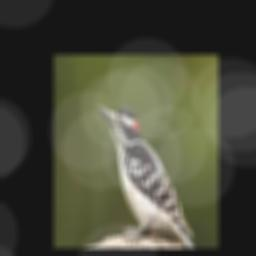Woodpecker: (97, 103, 195, 248)
